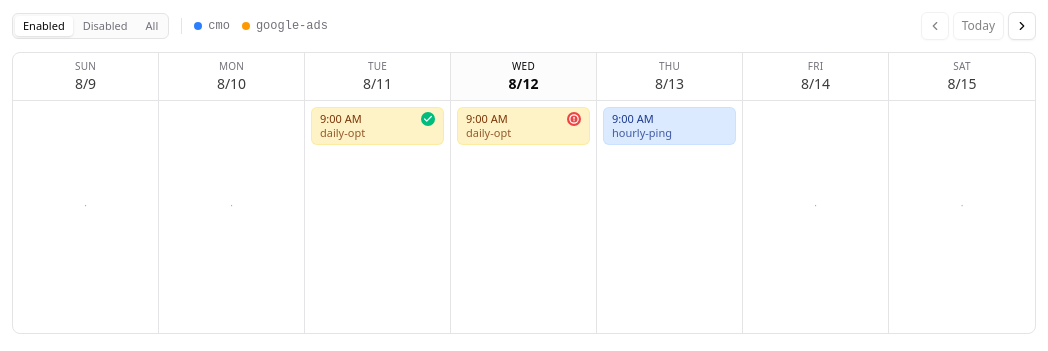
Test: CronCalendar — filter chips › switching to 'Disabled' shows only disabled crons
Click the tab "Disabled": x=105, y=26 [75,16,136,36]
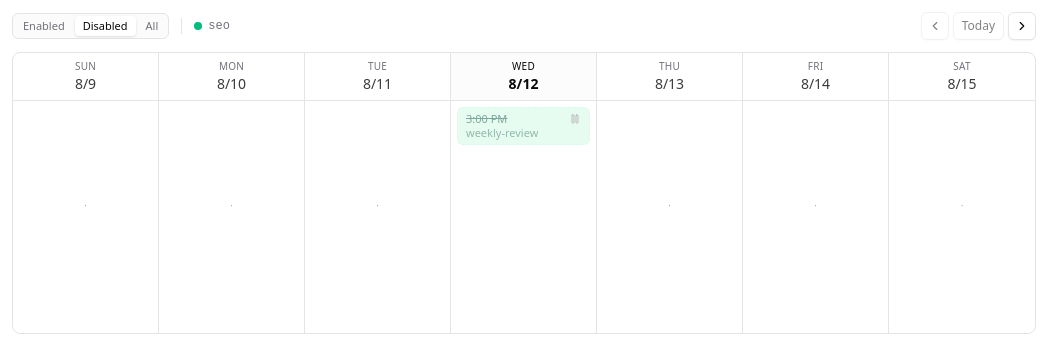
Expected: the text "weekly-review" is shown, [466,125,538,140]
Expected: no buttons "daily-opt" are shown
Expected: the button "hourly-ping" is gone
